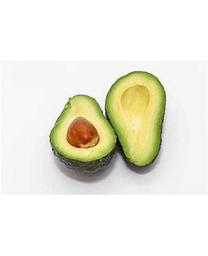avocado: (104, 70, 167, 169), (48, 92, 120, 177)
